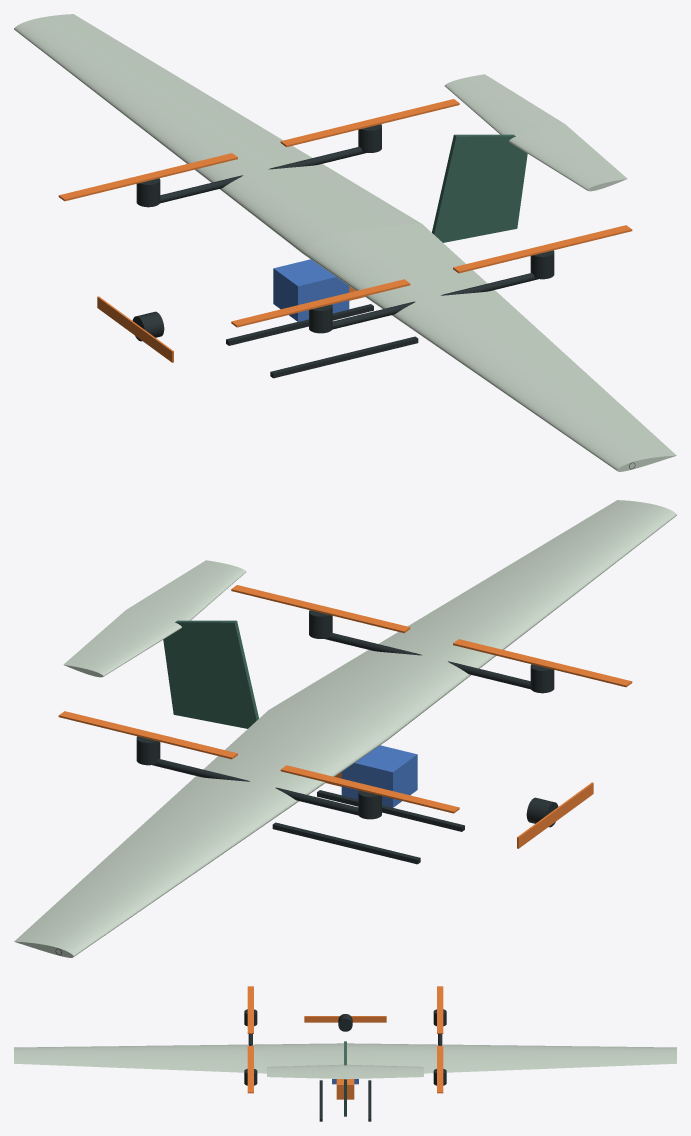
File: 04-internal.glb
3 views of the same model, one above another, from view 1: azimuth 30°, elevation 25°; view 2: azimuth 150°, elevation 25°; view 3: azimuth 270°, elevation 25° (orthographic). The views are drawn at different scales.
Parts seen in each view (by area): view 1: wing-1, wing1, fin, tail-1, tail1, payload, prop_-1_180.0, prop_-1_700.0, prop_1_180.0, prop_1_700.0, boom-1, boom1 (+3 smaller); view 2: wing1, wing-1, fin, tail1, tail-1, payload, prop_-1_180.0, prop_1_180.0, prop_1_700.0, prop_-1_700.0, boom1, boom-1 (+3 smaller); view 3: wing-1, wing1, tail-1, tail1, cruise_prop, prop_-1_180.0, prop_1_180.0, battery, prop_-1_700.0, prop_1_700.0, cruise_motor.
Part boxes in pixels (x1,y1,x2,y2): wing-1: [303, 224, 676, 471]; wing1: [14, 14, 421, 253]; fin: [432, 134, 527, 242]; tail-1: [509, 124, 627, 191]; tail1: [444, 74, 564, 135]; payload: [273, 259, 349, 321]; prop_-1_180.0: [231, 279, 410, 327]; prop_-1_700.0: [453, 225, 632, 273]; prop_1_180.0: [58, 153, 237, 201]; prop_1_700.0: [280, 99, 459, 147]; boom-1: [332, 273, 538, 329]; boom1: [160, 146, 365, 203]; wing1: [14, 710, 387, 957]; wing-1: [269, 500, 676, 739]; fin: [163, 620, 258, 728]; tail1: [63, 610, 181, 677]; tail-1: [126, 560, 246, 621]; payload: [341, 745, 417, 807]; prop_-1_180.0: [453, 639, 632, 687]; prop_1_180.0: [280, 765, 459, 813]; prop_1_700.0: [58, 711, 237, 759]; prop_-1_700.0: [231, 585, 410, 633]; boom1: [152, 759, 358, 815]; boom-1: [325, 632, 530, 689]; wing-1: [14, 1043, 343, 1073]; wing1: [347, 1043, 676, 1073]; tail-1: [267, 1064, 345, 1079]; tail1: [345, 1064, 423, 1079]; cruise_prop: [304, 1016, 386, 1022]; prop_-1_180.0: [247, 986, 253, 1033]; prop_1_180.0: [437, 986, 443, 1033]; battery: [336, 1079, 354, 1099]; prop_-1_700.0: [247, 1046, 253, 1093]; prop_1_700.0: [437, 1046, 443, 1093]; cruise_motor: [338, 1014, 352, 1031].
Bounding box in the file's own units: 1009 × 393 × 2450.
